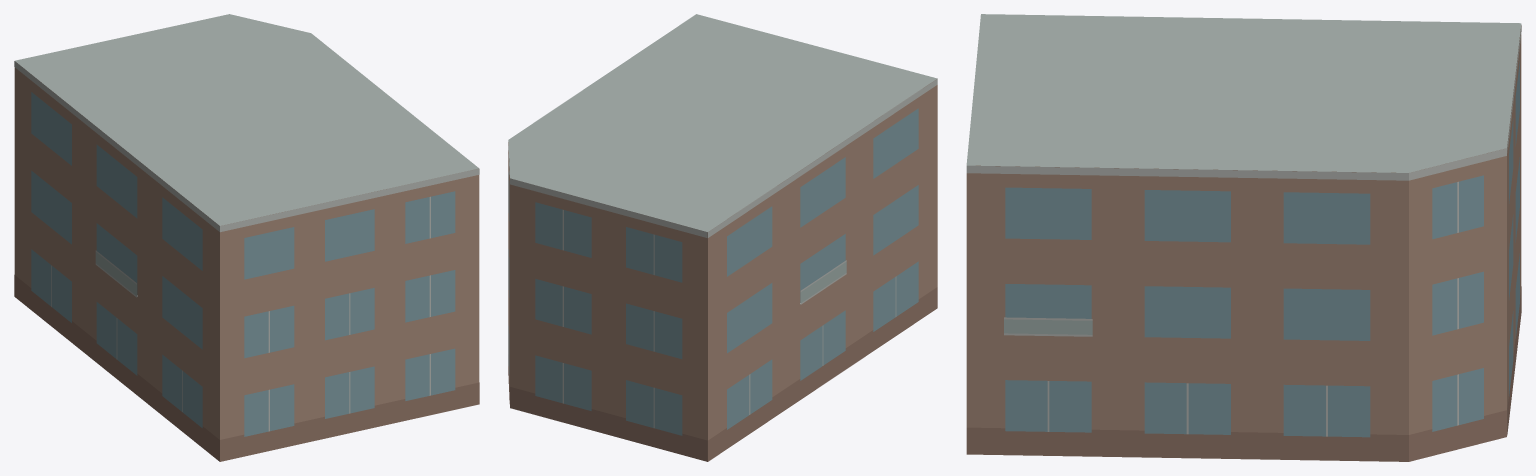
The model's file is survey-upis-32711081.glb.
3 views of the same model, side by side, from view 1: azimuth 30°, elevation 25°; view 2: azimuth 150°, elevation 25°; view 3: azimuth 270°, elevation 25° (orthographic). The views are drawn at different scales.
Parts seen in each view (by area): view 1: survey-upis-32711081.tmp; view 2: survey-upis-32711081.tmp; view 3: survey-upis-32711081.tmp.
Boxes of the visible parts, x1,y1,x2,y2 form: survey-upis-32711081.tmp: (14,14,479,461); survey-upis-32711081.tmp: (508,14,937,461); survey-upis-32711081.tmp: (966,14,1521,461).
Bounding box in the file's own units: 10.81 × 9.15 × 15.94.
